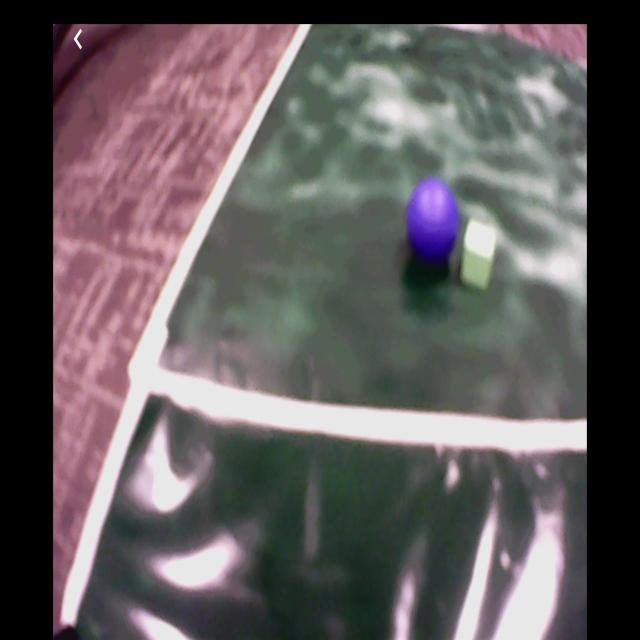ball: (408, 177, 460, 267)
